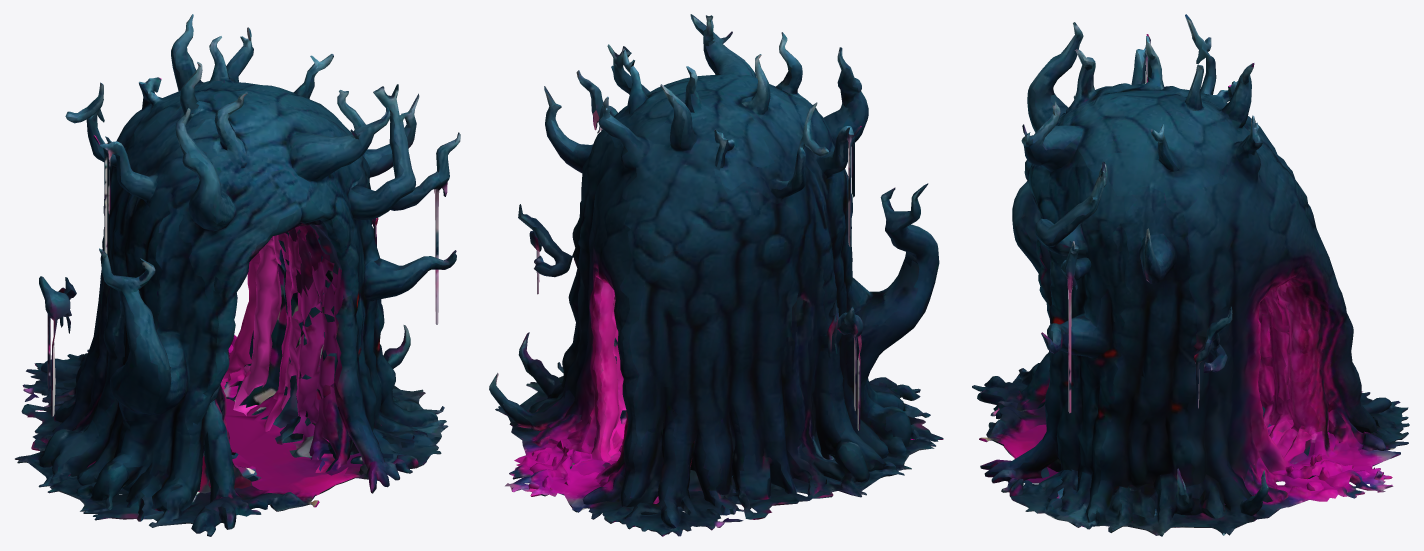
The model's file is tunnel-root-1-generated-2026-05-17T19-19-26-961Z.medium.glb.
The picture shows the model from 3 angles, left to right: view 1: azimuth 30°, elevation 25°; view 2: azimuth 150°, elevation 25°; view 3: azimuth 270°, elevation 25°; orthographic projection. The views are drawn at different scales.
Visible parts, largest first — view 1: temp_mesh.ply; view 2: temp_mesh.ply; view 3: temp_mesh.ply.
Boxes of the visible parts, <box> form: temp_mesh.ply: <box>15,14,460,536</box>; temp_mesh.ply: <box>489,14,943,536</box>; temp_mesh.ply: <box>972,14,1409,536</box>.
Size of the model in its own units: 1.95 by 1.9 by 1.93.
1 material, 1 textured.
